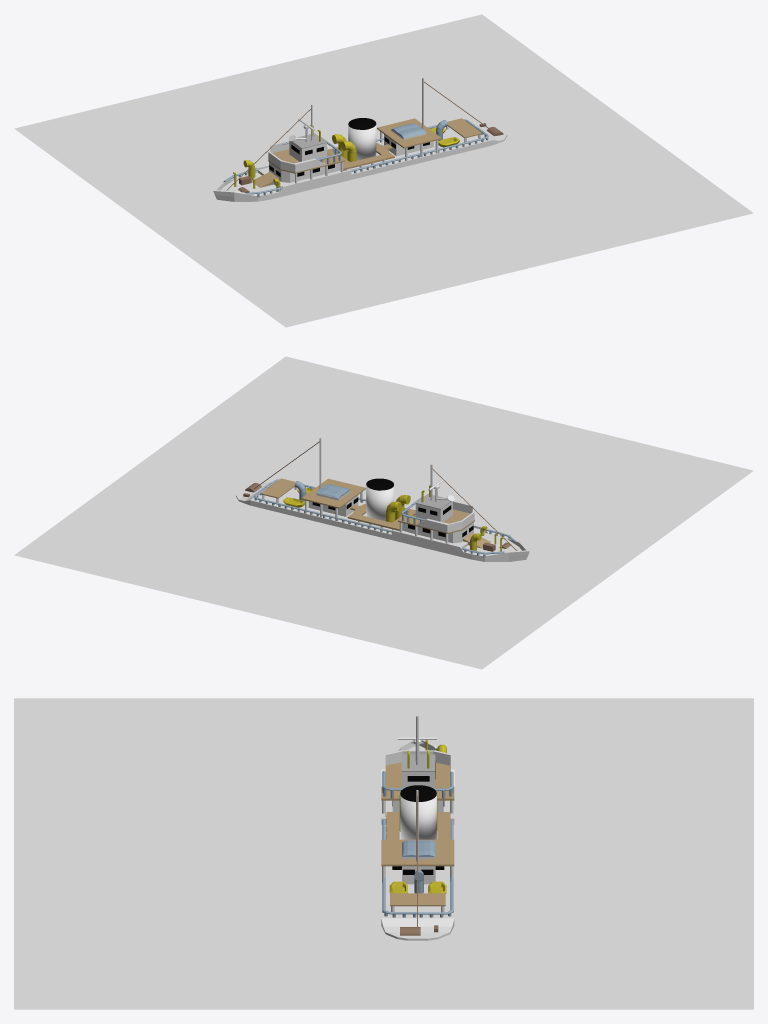
The model's file is MVBalmoral.dae.
The picture shows the model from 3 angles, top to bottom: view 1: azimuth 30°, elevation 25°; view 2: azimuth 150°, elevation 25°; view 3: azimuth 270°, elevation 25°; orthographic projection. The views are drawn at different scales.
Visible parts, largest first — view 1: Plane, Cube, Cube_003, Cube_014, Cylinder, Cube_009, Cube_004, Cylinder_003, Cube_007; view 2: Plane, Cube, Cube_003, Cube_014, Cube_009, Cylinder, Cylinder_003, Cube_004, Cube_007; view 3: Plane, Cube, Cube_014, Cylinder, Cube_005, Cube_007, Cube_016, Cube_009, Cylinder_003, Cube_012, Cube_022.
Boxes of the visible parts, x1,y1,x2,y2 form: Plane: (14,14,753,327); Cube: (215,121,507,201); Cube_003: (213,164,351,196); Cube_014: (377,118,441,148); Cylinder: (348,125,376,160); Cube_009: (268,140,326,172); Cube_004: (258,162,340,187); Cylinder_003: (223,119,488,194); Cube_007: (327,143,394,170); Plane: (14,356,753,669); Cube: (236,482,528,561); Cube_003: (391,524,529,556); Cube_014: (301,478,365,508); Cube_009: (416,500,474,532); Cylinder: (366,485,393,521); Cylinder_003: (254,479,517,554); Cube_004: (402,522,485,547); Cube_007: (347,503,415,530); Plane: (14,698,753,1009); Cube: (381,745,454,940); Cube_014: (381,839,454,866); Cylinder: (400,794,436,839); Cube_005: (381,762,454,800); Cube_007: (386,812,450,839); Cube_016: (390,893,445,906); Cube_009: (381,750,454,786); Cylinder_003: (382,747,453,914); Cube_012: (401,754,435,771); Cube_022: (402,840,435,856).
Bounding box in the file's own units: 19.04 × 19.15 × 3.29.
